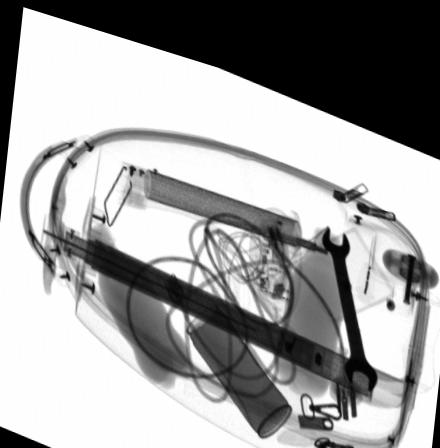Wrench: (321, 205, 377, 369)
